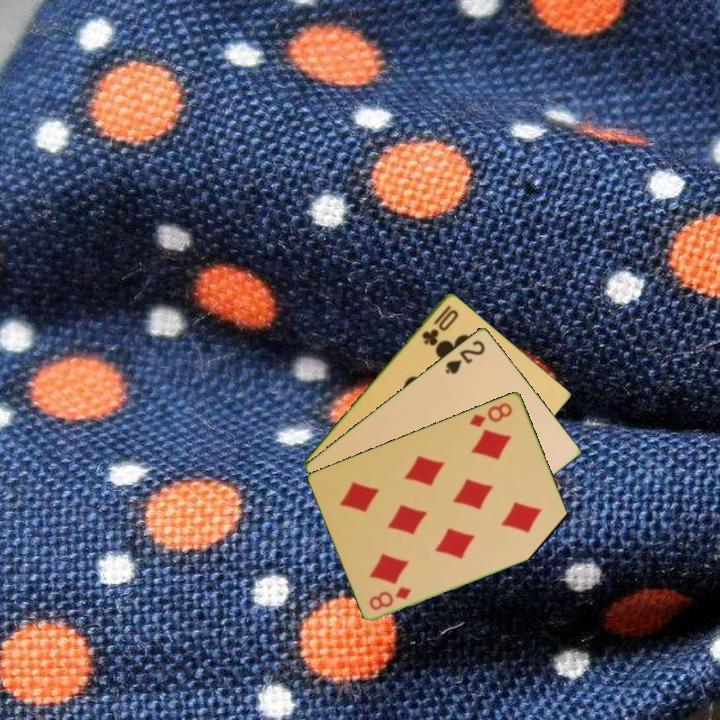10c: (418, 301, 462, 349)
2s: (441, 336, 488, 377)
8d: (466, 399, 515, 430), (366, 583, 414, 613)
